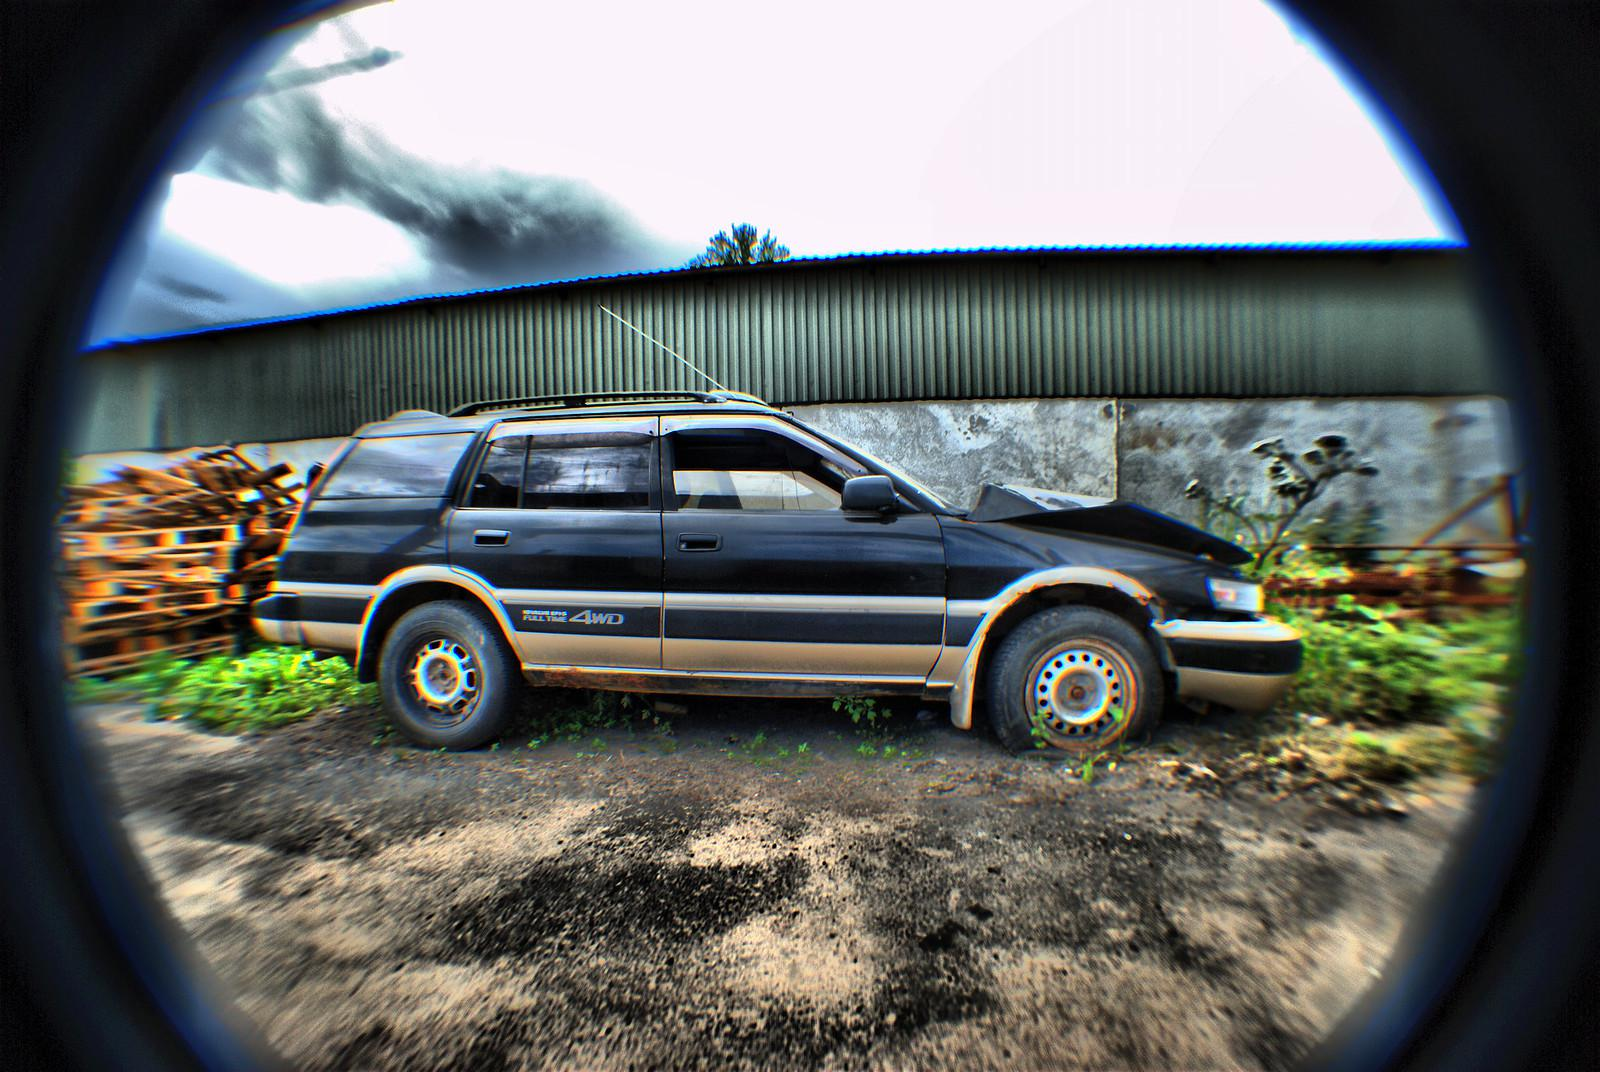RunningBoard-Dent: (523, 668, 930, 709)
bonnet-dent: (938, 465, 1262, 558)
